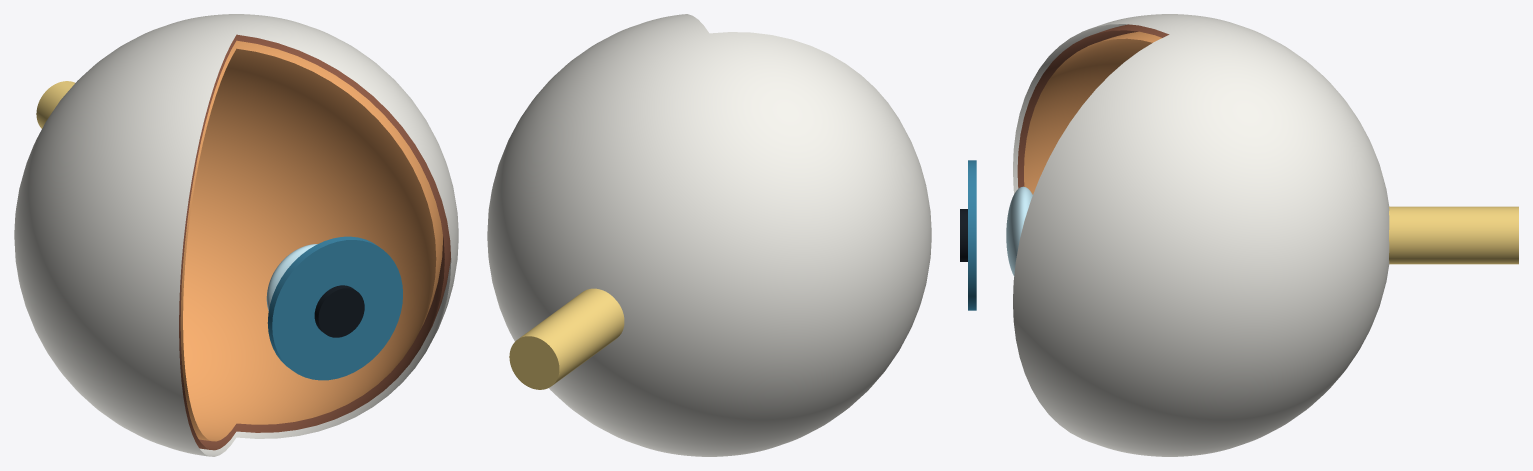
File: bio-eye__model3d__eye-cutaway-schematic.glb
The picture shows the model from 3 angles, left to right: view 1: azimuth 30°, elevation 25°; view 2: azimuth 150°, elevation 25°; view 3: azimuth 270°, elevation 25°; orthographic projection.
Parts seen in each view (by area): view 1: Sclera cutaway, Retina cutaway, Iris, Choroid cutaway, Pupil reference, Optic nerve, Lens; view 2: Sclera cutaway, Optic nerve; view 3: Sclera cutaway, Optic nerve, Retina cutaway, Choroid cutaway, Iris, Lens.
Part boxes in pixels (bbox=[...]): Sclera cutaway: bbox=[14, 14, 458, 456]; Retina cutaway: bbox=[180, 40, 442, 441]; Iris: bbox=[267, 236, 402, 380]; Choroid cutaway: bbox=[179, 34, 450, 450]; Pupil reference: bbox=[314, 285, 364, 337]; Optic nerve: bbox=[36, 81, 74, 128]; Lens: bbox=[266, 244, 317, 310]; Sclera cutaway: bbox=[487, 14, 931, 456]; Optic nerve: bbox=[509, 288, 624, 389]; Sclera cutaway: bbox=[1013, 14, 1389, 456]; Optic nerve: bbox=[1389, 206, 1518, 264]; Retina cutaway: bbox=[1024, 31, 1161, 194]; Choroid cutaway: bbox=[1017, 24, 1169, 188]; Iris: bbox=[968, 160, 976, 310]; Lens: bbox=[1006, 186, 1032, 276].
Size of the model in its own units: 0.1999 by 0.2 by 0.252.
